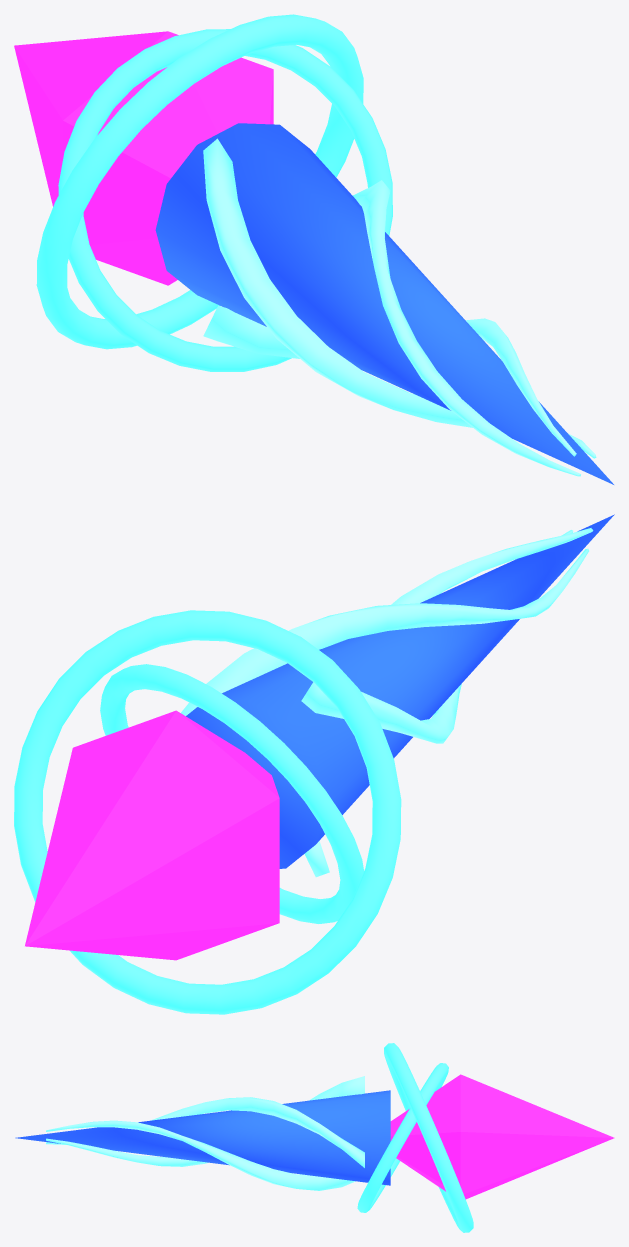
Rendered from plasma.glb.
The picture shows the model from 3 angles, top to bottom: view 1: azimuth 30°, elevation 25°; view 2: azimuth 150°, elevation 25°; view 3: azimuth 270°, elevation 25°; orthographic projection. The views are drawn at different scales.
Parts seen in each view (by area): view 1: PlasmaBolt; view 2: PlasmaBolt; view 3: PlasmaBolt.
Boxes of the visible parts, x1,y1,x2,y2 form: PlasmaBolt: [14, 14, 613, 484]; PlasmaBolt: [14, 514, 614, 1014]; PlasmaBolt: [15, 1043, 614, 1232].
Size of the model in its own units: 0.6338 by 0.6087 by 1.88.
